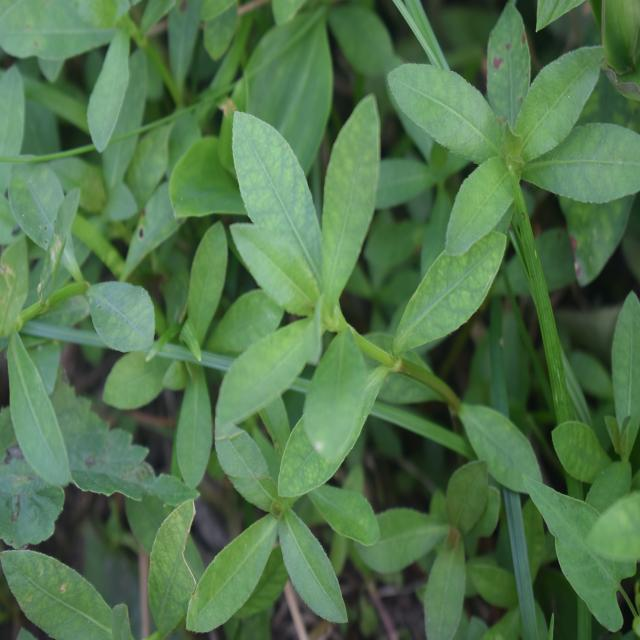Alligatorweed: (208, 120, 507, 465), (394, 22, 638, 256), (178, 408, 383, 620)
